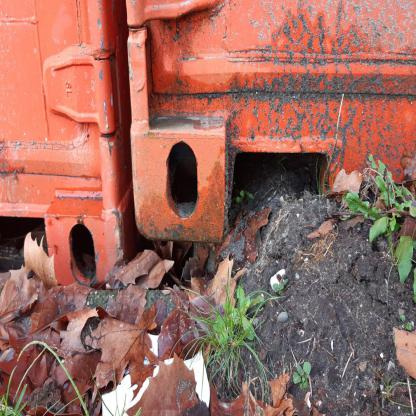CornerCasting: (128, 114, 235, 241), (45, 198, 131, 299)
